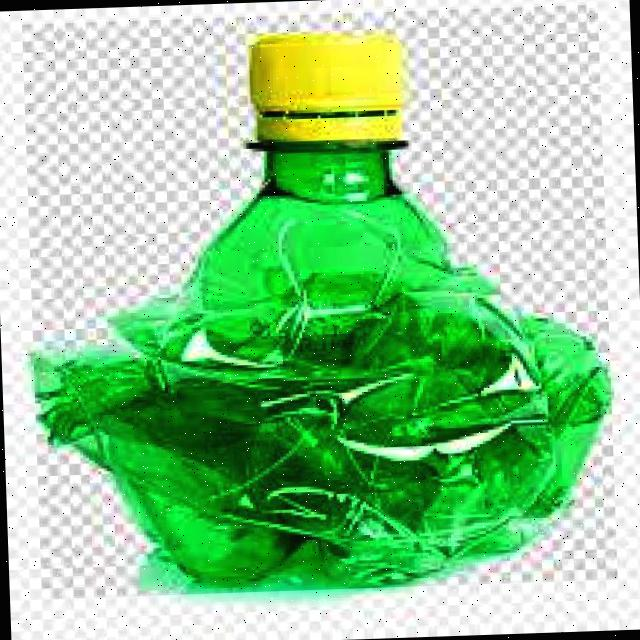bottle: (21, 4, 618, 599)
cap: (235, 26, 412, 152)
